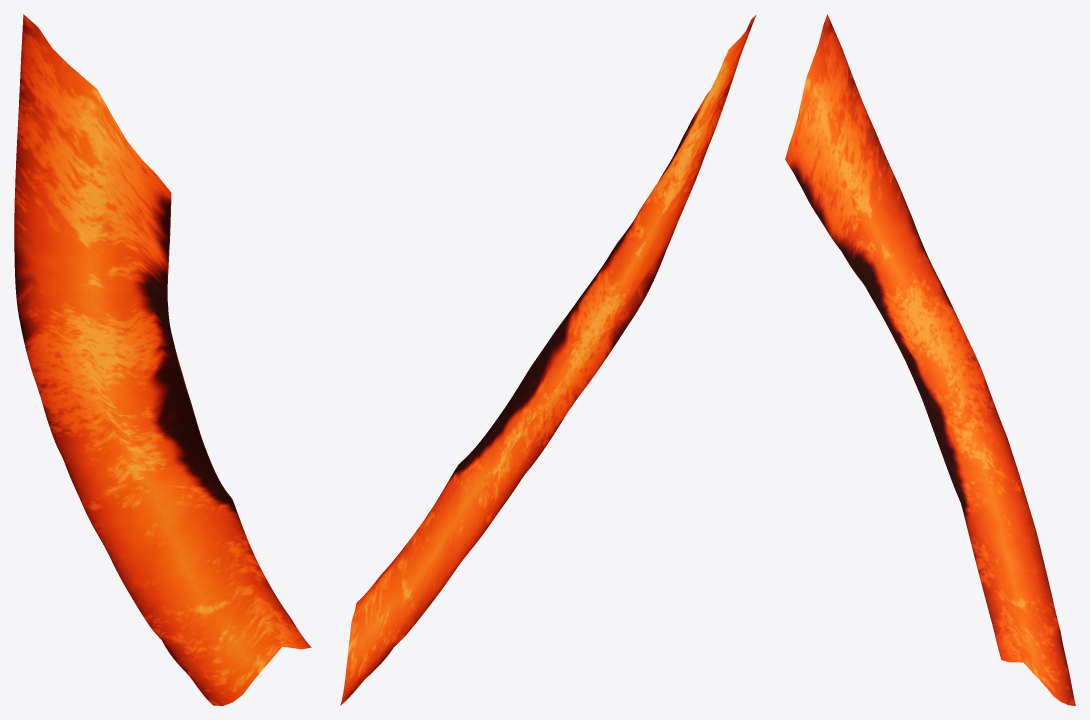
The model's file is flow_1_1.glb.
The picture shows the model from 3 angles, left to right: view 1: azimuth 30°, elevation 25°; view 2: azimuth 150°, elevation 25°; view 3: azimuth 270°, elevation 25°; orthographic projection. The views are drawn at different scales.
Bounding box in the file's own units: 11.99 × 24.93 × 11.44.
